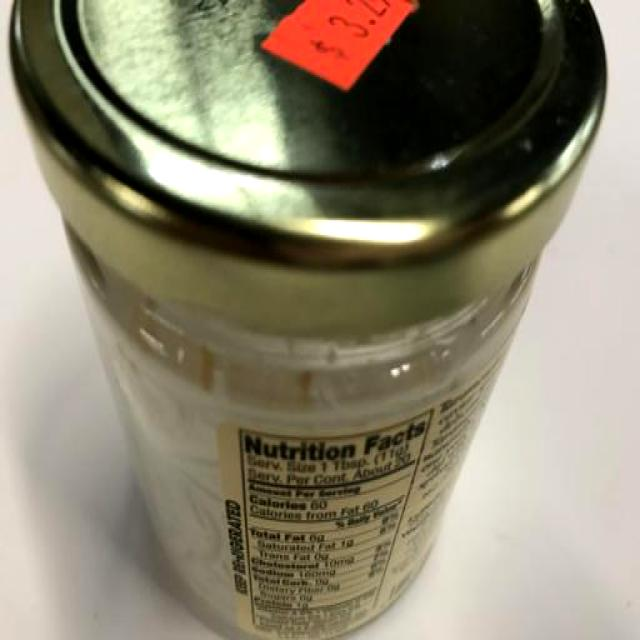Glass: (62, 225, 549, 640)
Metal: (4, 0, 610, 341)
